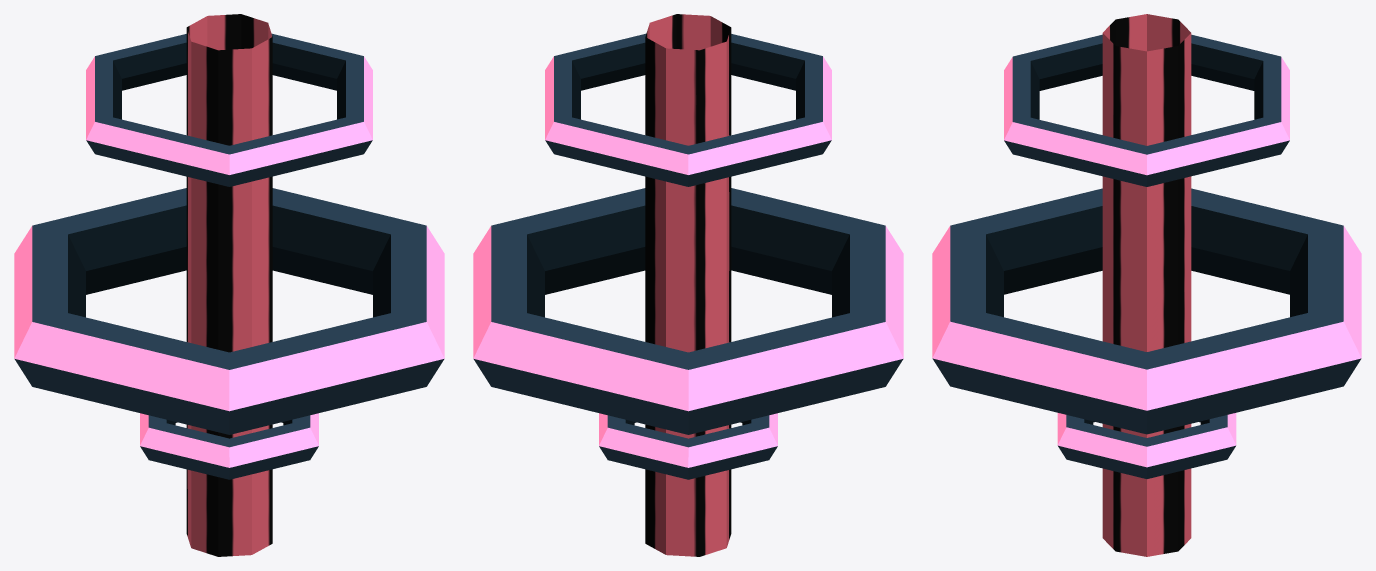
The model's file is prop_environment_01.fbx.
3 renders of one model, left to right at view 1: azimuth 30°, elevation 25°; view 2: azimuth 150°, elevation 25°; view 3: azimuth 270°, elevation 25°, orthographic.
Visible parts, largest first — view 1: prop_environment_01; view 2: prop_environment_01; view 3: prop_environment_01.
Part boxes in pixels (left/top/right/bottom): prop_environment_01: left=14, top=14, right=444, bottom=556; prop_environment_01: left=473, top=14, right=903, bottom=556; prop_environment_01: left=932, top=14, right=1361, bottom=556.
Bounding box in the file's own units: 240 × 270 × 208.
